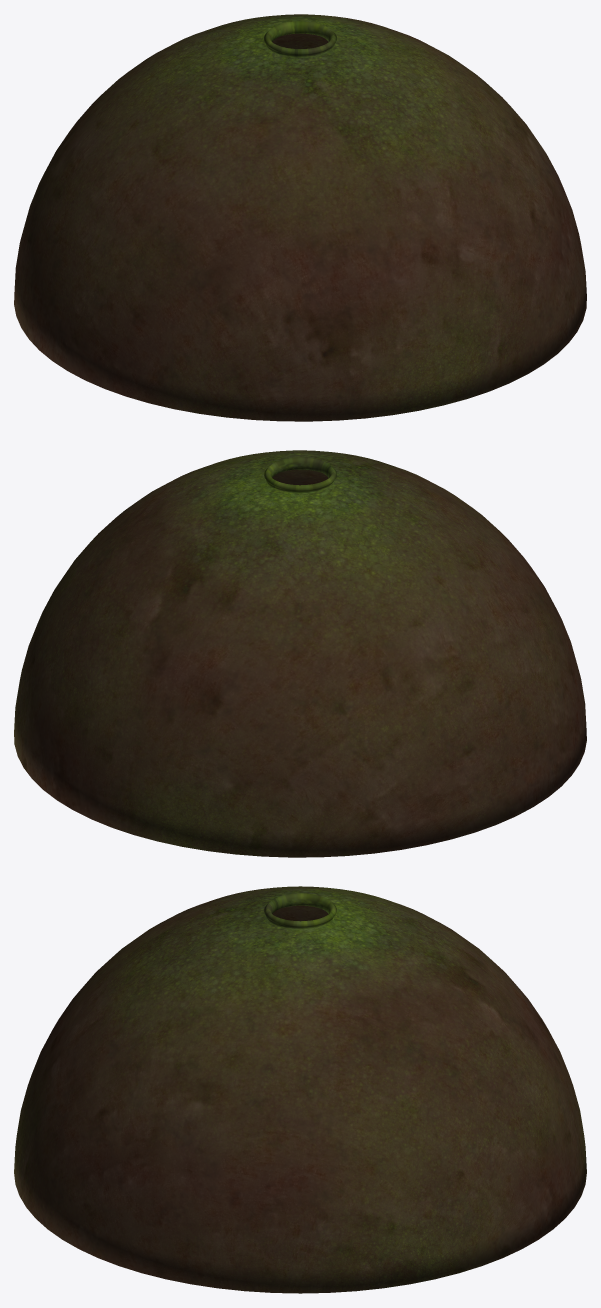
File: Dome.fbx
The picture shows the model from 3 angles, top to bottom: view 1: azimuth 30°, elevation 25°; view 2: azimuth 150°, elevation 25°; view 3: azimuth 270°, elevation 25°; orthographic projection.
Visible parts, largest first — view 1: Dome; view 2: Dome; view 3: Dome.
Boxes of the visible parts, x1,y1,x2,y2 form: Dome: (14,14,586,421); Dome: (14,450,586,857); Dome: (14,886,586,1293).
Size of the model in its own units: 142 by 72.36 by 142.
